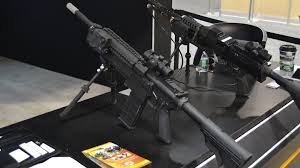gun: (60, 1, 251, 167), (147, 2, 299, 117)
